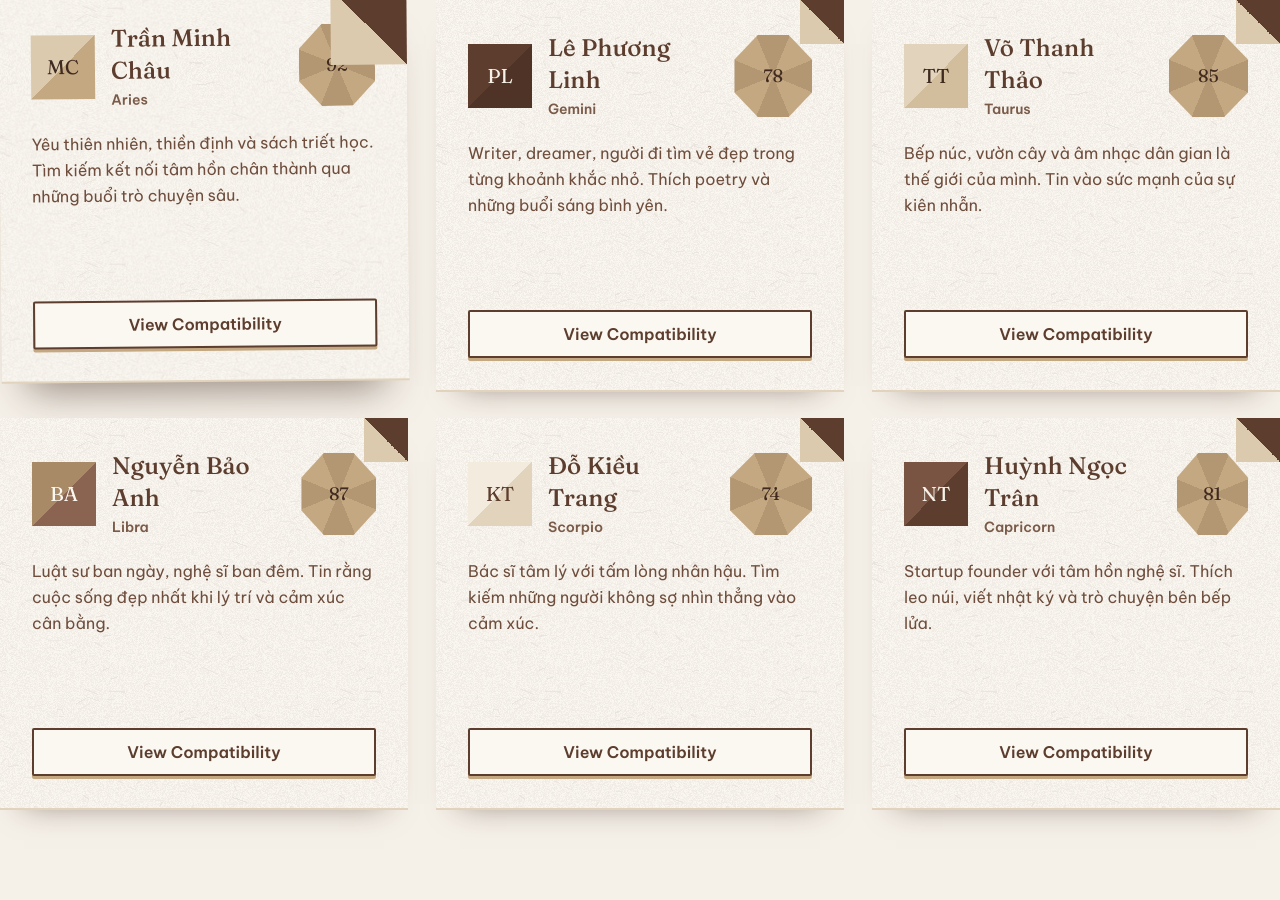
Test: origami route interactions › opens and closes the compatibility letter
The image size is (1280, 900).
Click the button "View Compatibility" below "Aries" at (205, 324), box [33,298,377,350]
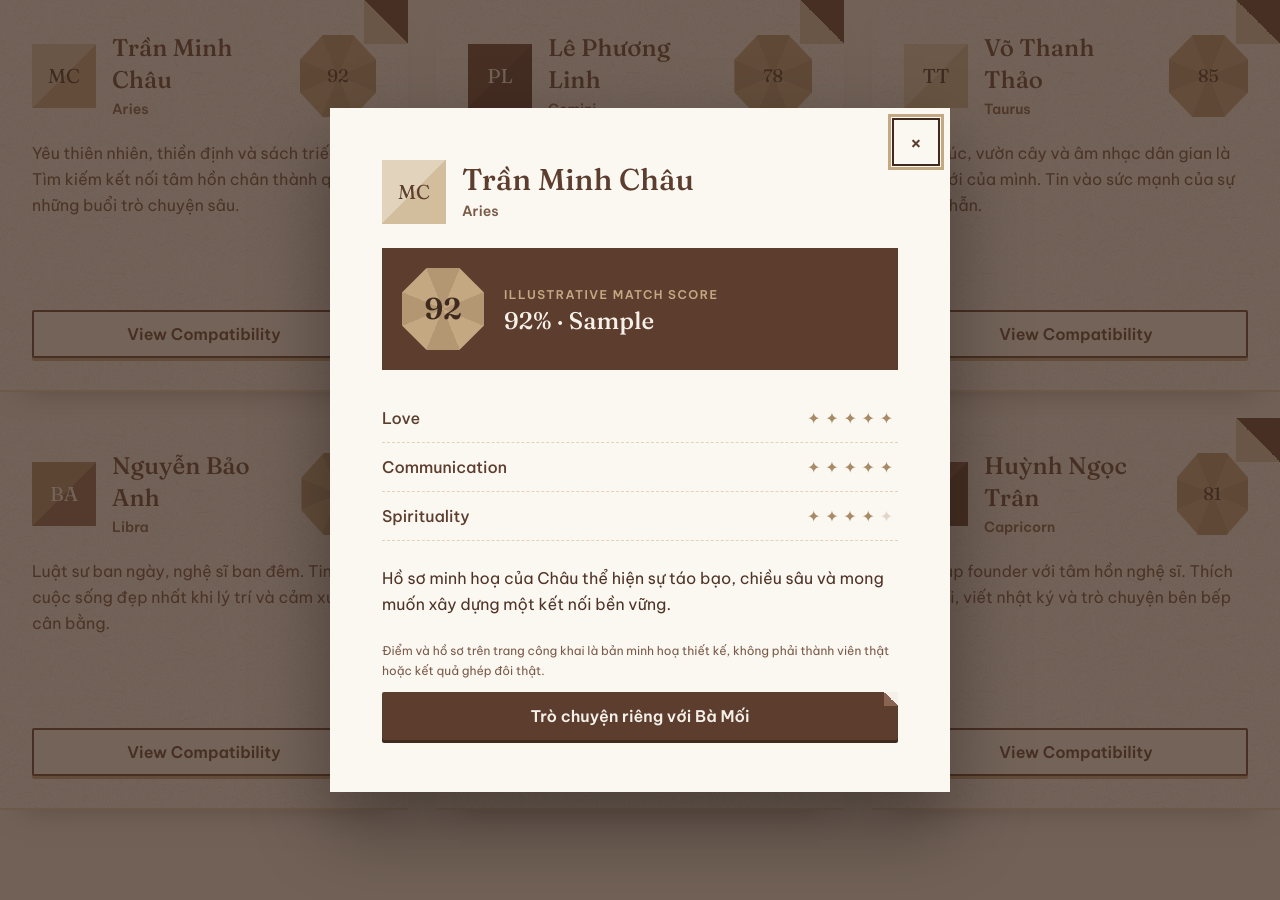
Check: the dialog "Trần Minh Châu" is shown, box [330,108,950,792]
Press Tab
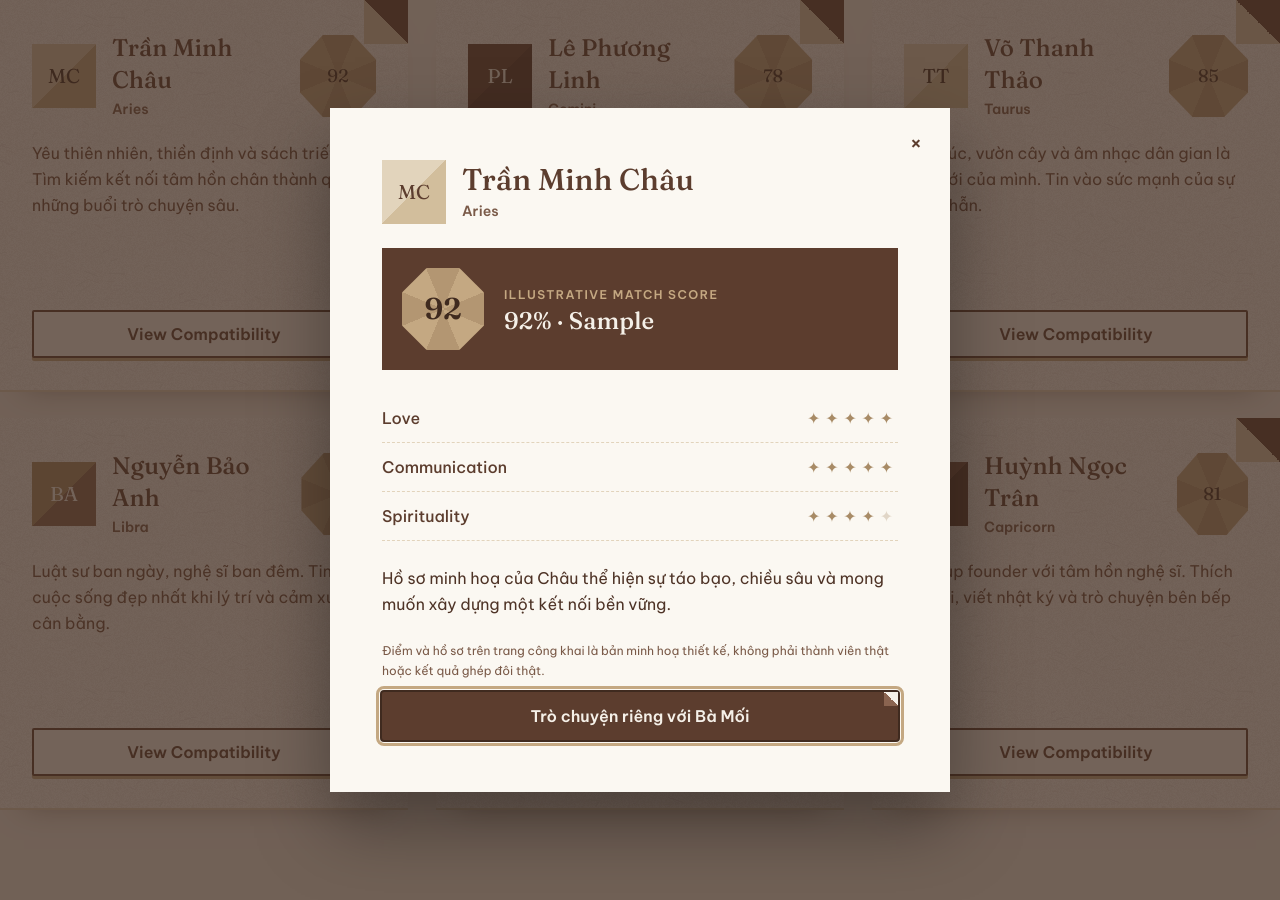
Press Tab
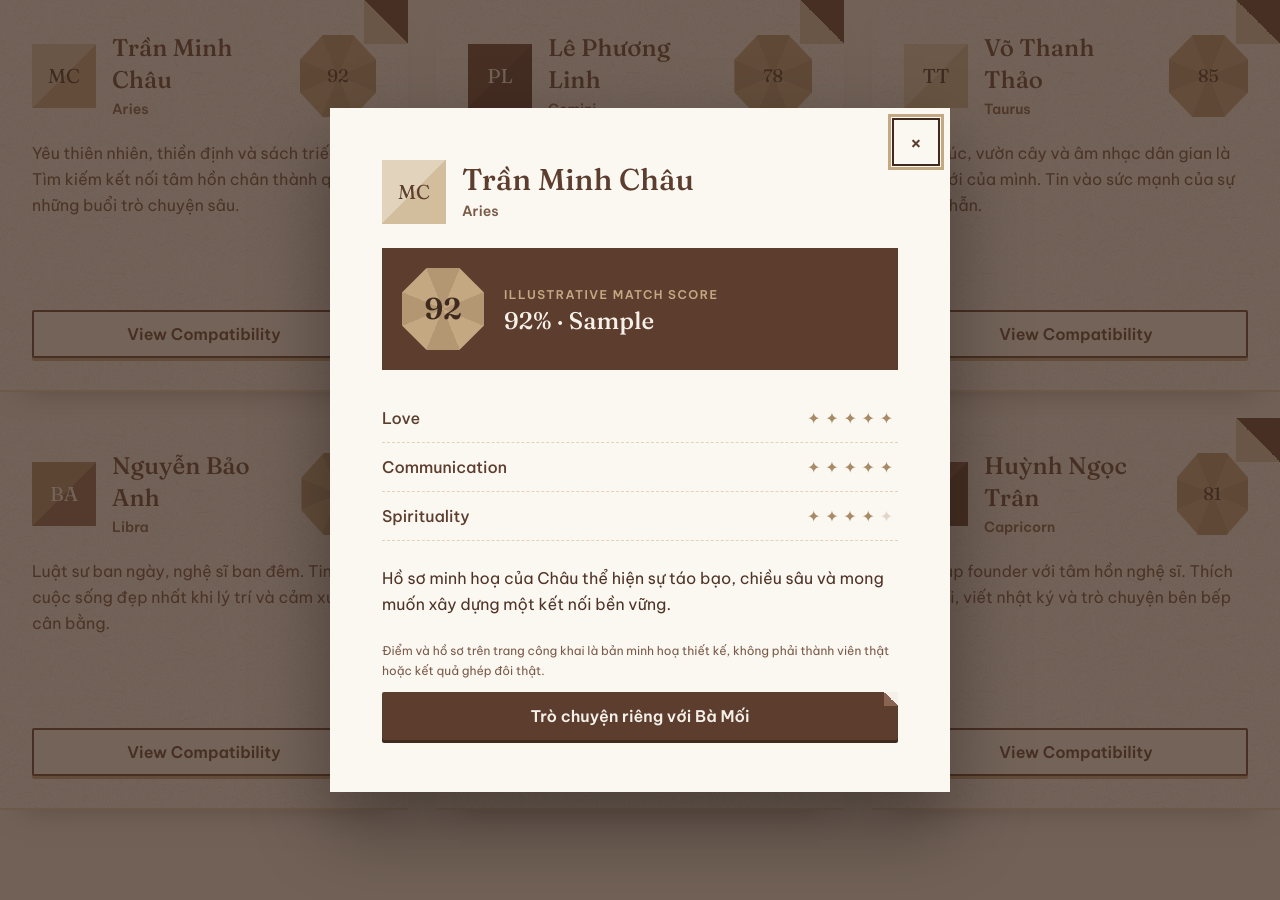
Press Escape
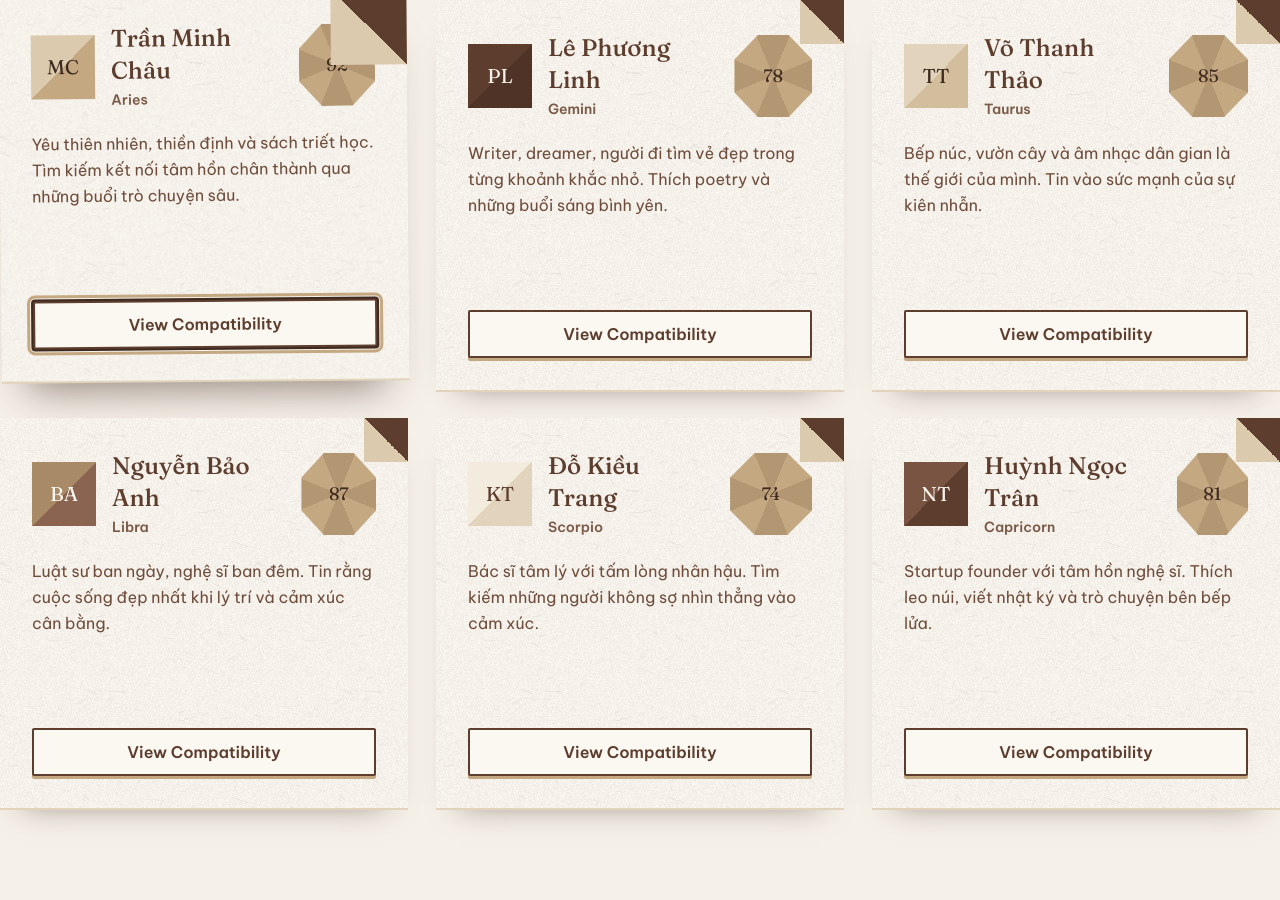
Check: the dialog is gone
